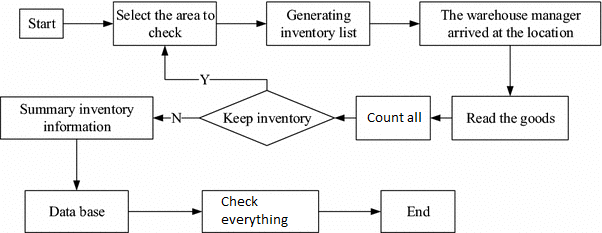arrow: (159, 44, 271, 90), (127, 206, 203, 218), (70, 137, 83, 190), (505, 41, 516, 97), (215, 18, 267, 29), (153, 114, 203, 125), (318, 208, 380, 216), (367, 19, 419, 28), (61, 20, 113, 28), (334, 112, 358, 123), (430, 113, 455, 122)
decision: (199, 87, 341, 149)
process: (417, 1, 602, 48), (1, 95, 155, 143), (450, 94, 574, 144), (200, 187, 320, 233), (110, 1, 220, 49), (264, 1, 374, 49), (22, 188, 132, 233), (354, 93, 432, 143), (377, 187, 458, 233), (16, 6, 67, 41)
text: (440, 7, 581, 38), (19, 102, 134, 134), (115, 8, 216, 38), (279, 8, 359, 41), (219, 194, 290, 228), (465, 110, 558, 127), (220, 110, 315, 125), (48, 204, 109, 219), (365, 111, 424, 125), (27, 16, 58, 30), (406, 204, 431, 217), (198, 72, 213, 87), (170, 110, 185, 125)
